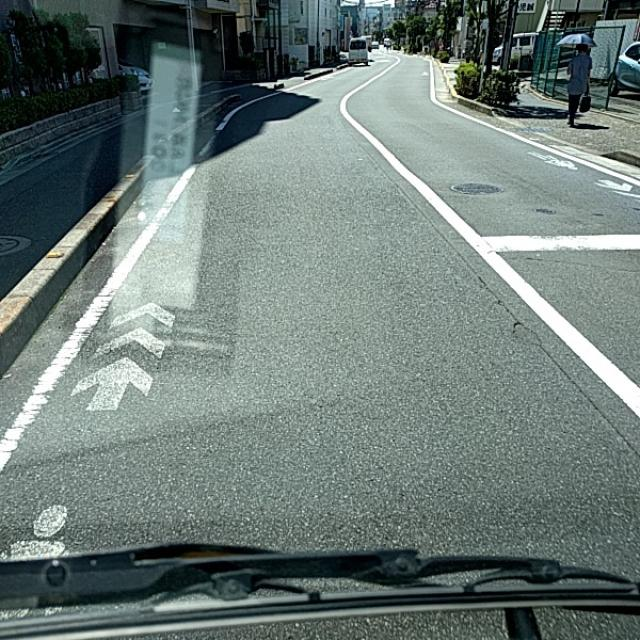pothole: (496, 272, 553, 371)
